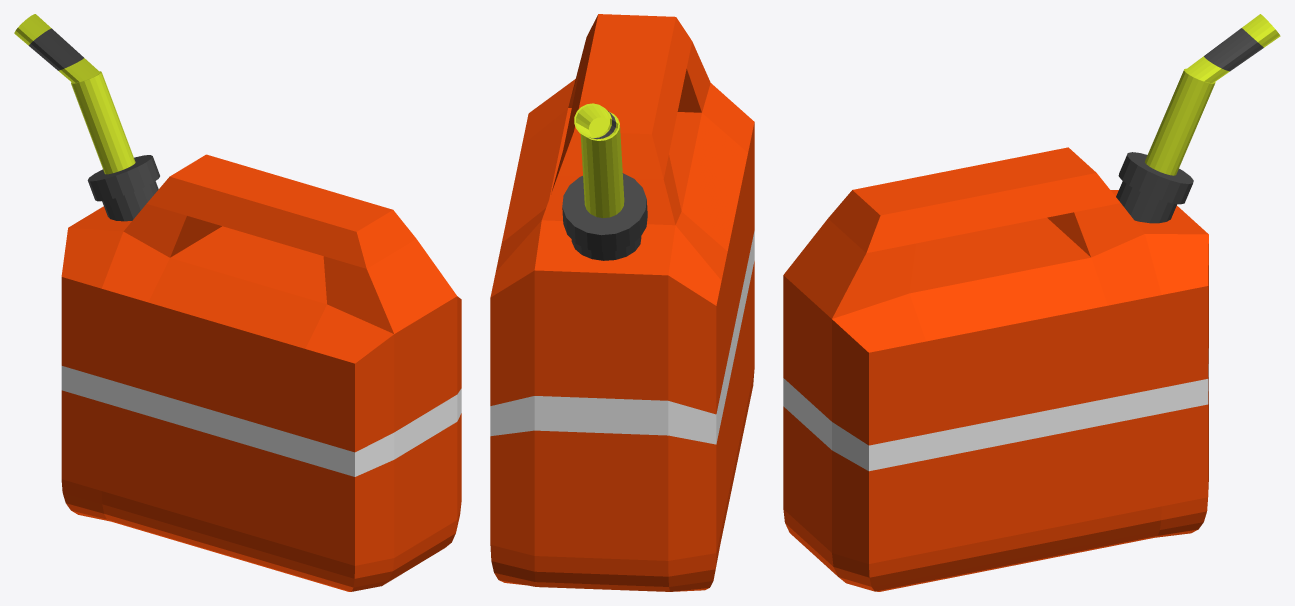
File: Gas can.glb
The picture shows the model from 3 angles, left to right: view 1: azimuth 30°, elevation 25°; view 2: azimuth 150°, elevation 25°; view 3: azimuth 270°, elevation 25°; orthographic projection. The views are drawn at different scales.
Visible parts, largest first — view 1: Box002, Cylinder004, Cylinder005, Cylinder006; view 2: Box002, Cylinder004, Cylinder005, Cylinder006; view 3: Box002, Cylinder004, Cylinder005, Cylinder006.
Boxes of the visible parts, x1,y1,x2,y2 form: Box002: [61, 154, 461, 591]; Cylinder004: [14, 14, 135, 174]; Cylinder005: [87, 155, 159, 201]; Cylinder006: [102, 181, 158, 221]; Box002: [490, 14, 754, 591]; Cylinder004: [574, 103, 624, 217]; Cylinder005: [562, 173, 647, 252]; Cylinder006: [571, 236, 641, 260]; Box002: [783, 147, 1208, 591]; Cylinder004: [1145, 14, 1280, 175]; Cylinder005: [1118, 152, 1193, 204]; Cylinder006: [1116, 181, 1177, 223].
Bounding box in the file's own units: 395326 × 607186 × 588420.
